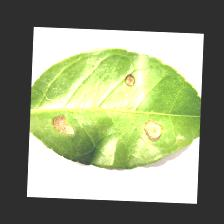canker: (40, 70, 174, 155)
